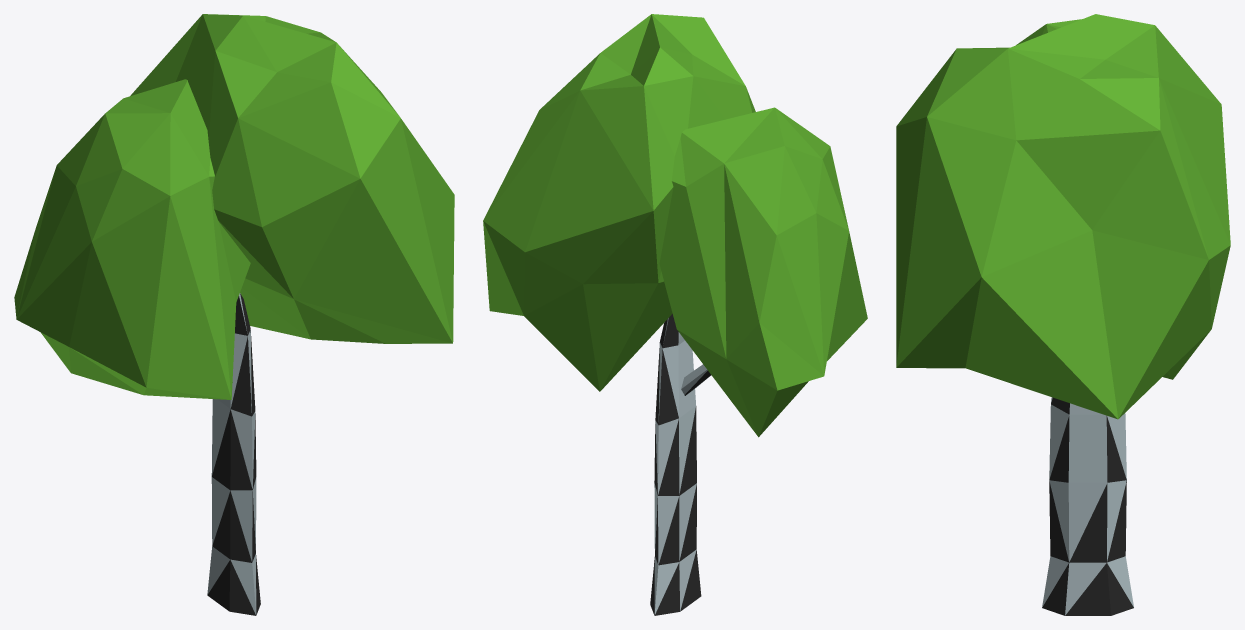
Rendered from BirchSmall.fbx.
The picture shows the model from 3 angles, left to right: view 1: azimuth 30°, elevation 25°; view 2: azimuth 150°, elevation 25°; view 3: azimuth 270°, elevation 25°; orthographic projection. The views are drawn at different scales.
Visible parts, largest first — view 1: Birch.002; view 2: Birch.002; view 3: Birch.002.
Boxes of the visible parts, x1,y1,x2,y2 form: Birch.002: (14,14,454,615); Birch.002: (483,14,867,615); Birch.002: (896,14,1230,615).
Bounding box in the file's own units: 0.6549 × 0.9869 × 0.4984.
